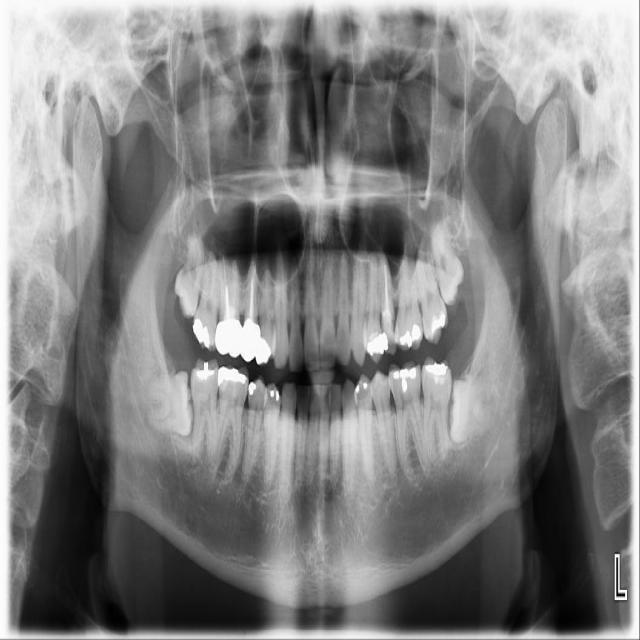3M ESPE Implant: (170, 231, 206, 320)
52: (414, 289, 455, 348), (390, 302, 426, 353), (387, 359, 423, 408), (187, 356, 221, 407), (213, 364, 251, 408), (212, 314, 246, 359), (420, 356, 453, 401), (192, 300, 218, 355), (359, 317, 386, 365), (238, 318, 263, 363), (351, 373, 375, 417), (379, 311, 400, 357), (255, 324, 277, 366), (246, 376, 269, 413), (262, 382, 284, 413)
73: (214, 244, 240, 319), (375, 250, 396, 321), (243, 261, 263, 323), (606, 586, 614, 600)
BioHorizons Implant: (409, 227, 452, 347)
BioLife Implant: (423, 215, 472, 308)
Biomet 3i Implant: (448, 379, 493, 448)
Blue Sky Bio Implant: (421, 356, 453, 465)
Caries: (190, 251, 222, 354)
Implant: (188, 356, 220, 467)
Keystone Dental Implant: (145, 368, 195, 438)
